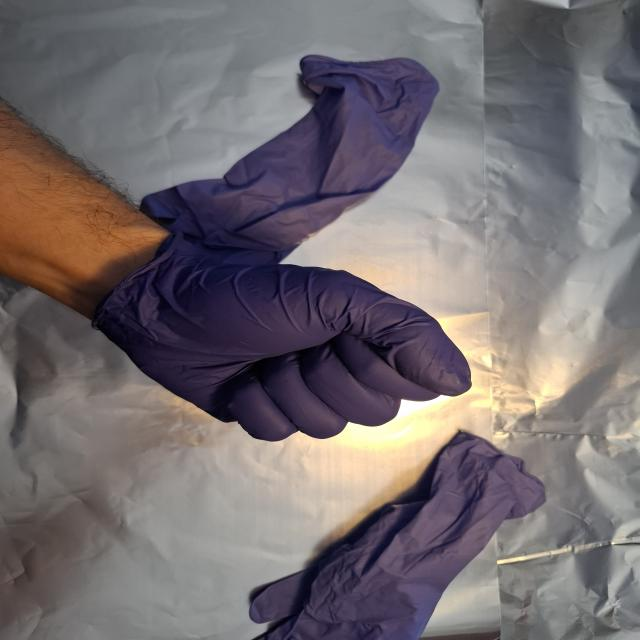glove_on: (86, 231, 475, 443)
